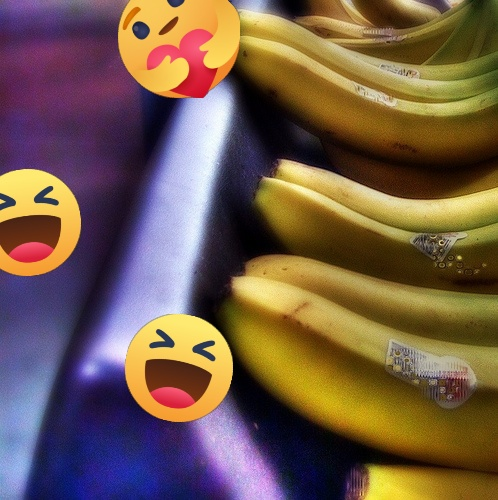care: (118, 0, 240, 98)
haha: (125, 314, 233, 422), (0, 169, 81, 276)
